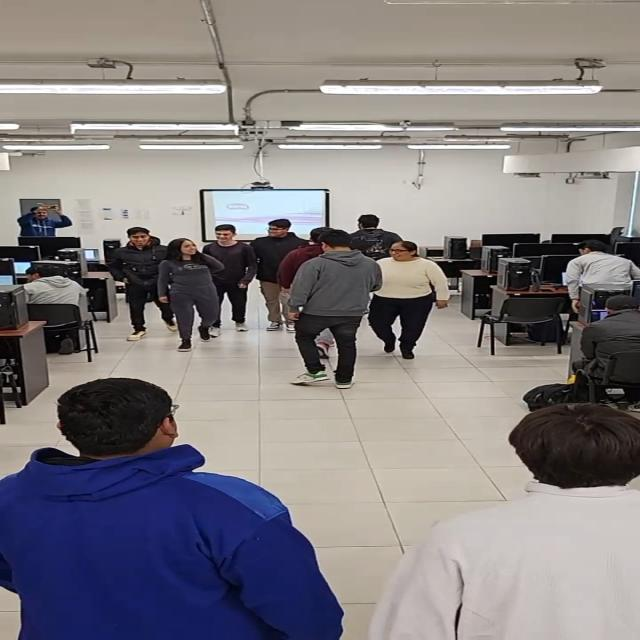Persona: (0, 376, 348, 639), (358, 399, 640, 640), (285, 229, 384, 390), (368, 241, 451, 360), (106, 226, 186, 342), (158, 238, 226, 352), (250, 218, 308, 332), (203, 224, 258, 338), (348, 214, 402, 260)
